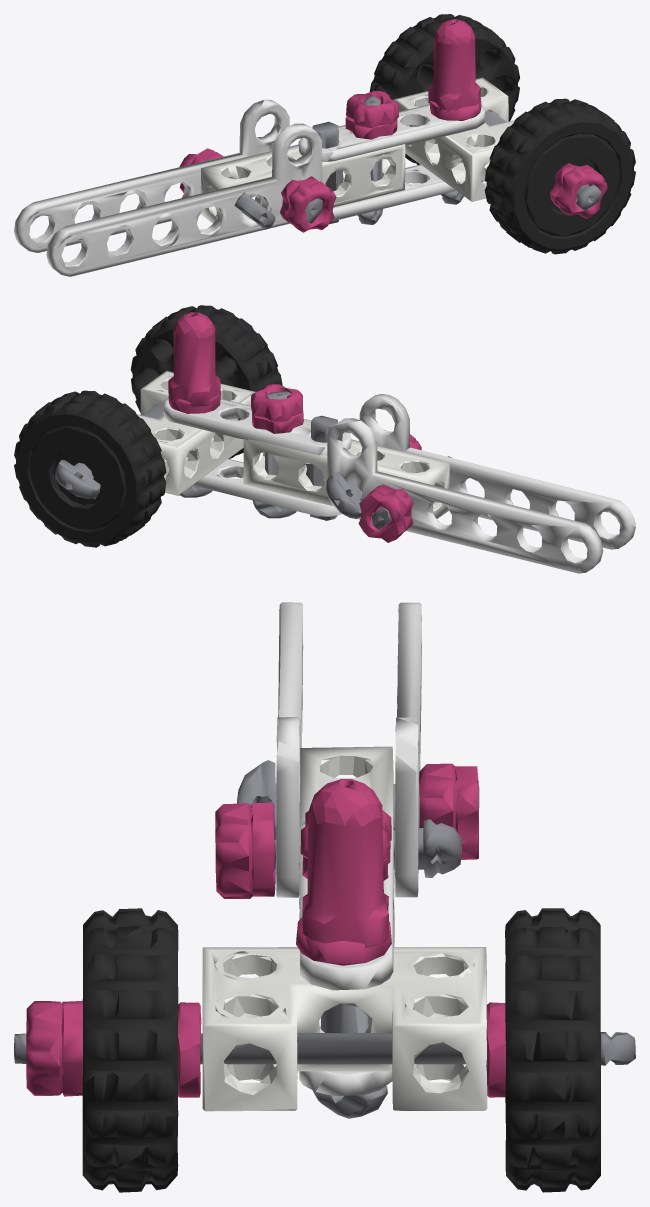
File: state9.fbx
3 views of the same model, one above another, from view 1: azimuth 30°, elevation 25°; view 2: azimuth 150°, elevation 25°; view 3: azimuth 270°, elevation 25° (orthographic). The views are drawn at different scales.
Parts seen in each view (by area): view 1: Nut CPN RH BU01x01.75 - SPN-NUT-0038 (stemfie.org).001; view 2: Nut CPN RH BU01x01.75 - SPN-NUT-0038 (stemfie.org).001; view 3: Nut CPN RH BU01x01.75 - SPN-NUT-0038 (stemfie.org).001.
Part boxes in pixels (left/top/right/bottom): Nut CPN RH BU01x01.75 - SPN-NUT-0038 (stemfie.org).001: left=14, top=14, right=635, bottom=276; Nut CPN RH BU01x01.75 - SPN-NUT-0038 (stemfie.org).001: left=14, top=305, right=635, bottom=573; Nut CPN RH BU01x01.75 - SPN-NUT-0038 (stemfie.org).001: left=14, top=602, right=635, bottom=1192.
Size of the model in its own units: 14868 by 5151 by 8195.
